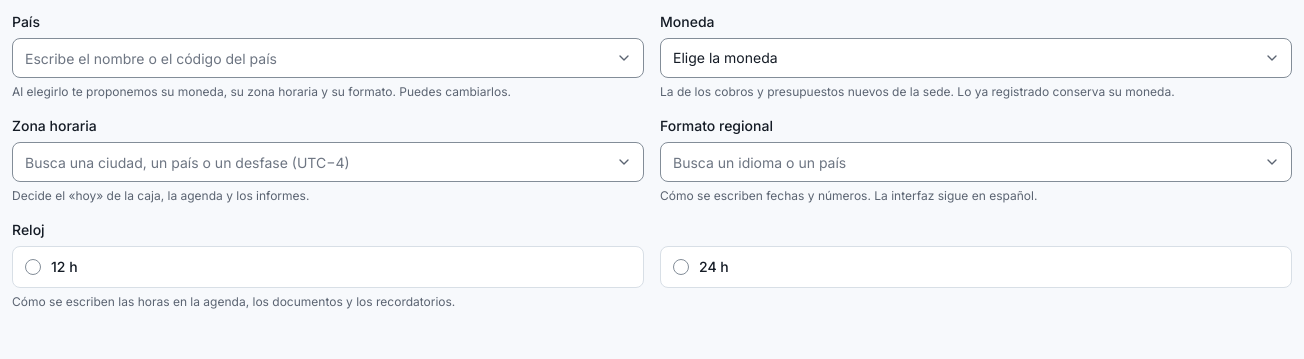
it: RegionalSettingsFields › the country picker offers every country of the shared list by name
The width and height of the screenshot is (1304, 359).
Click the dropdown labelled "País" at (328, 58), box [12, 38, 644, 78]
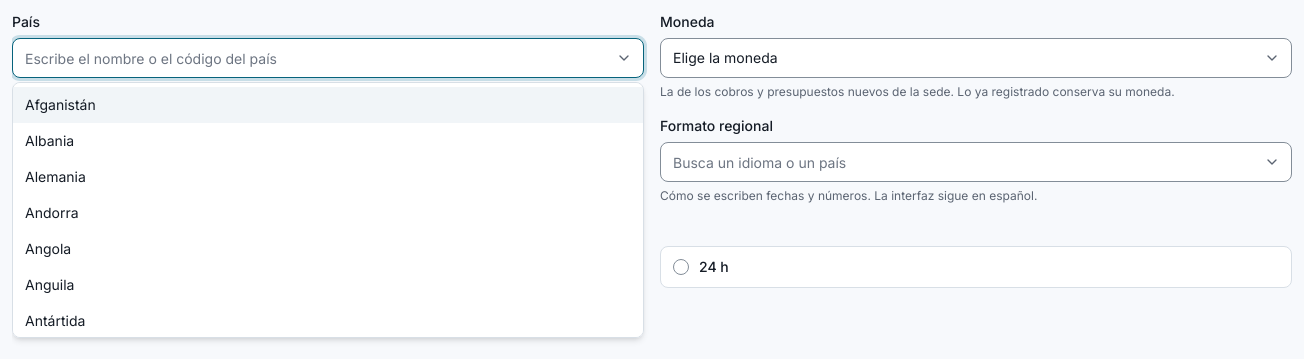
Type "VE" into the dropdown labelled "País" at (328, 58), box [12, 38, 644, 78]
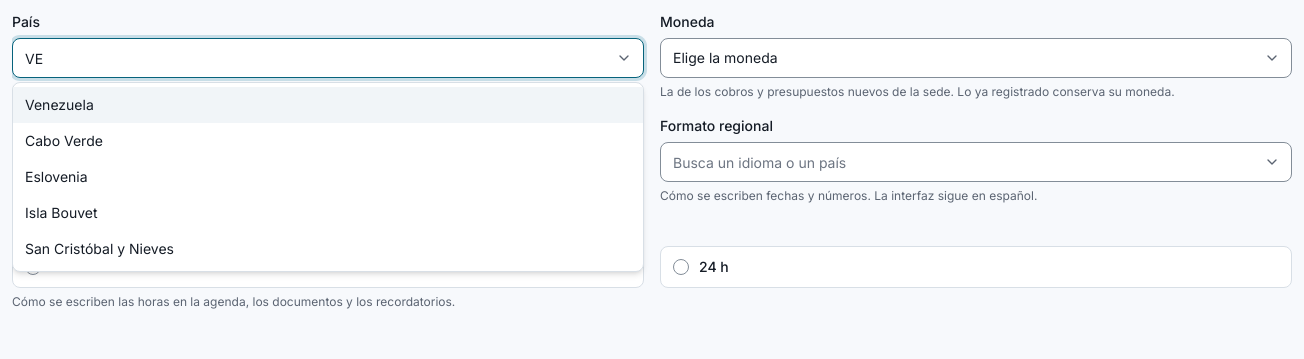
Click the option "Venezuela" at (59, 104), box [13, 87, 643, 123]
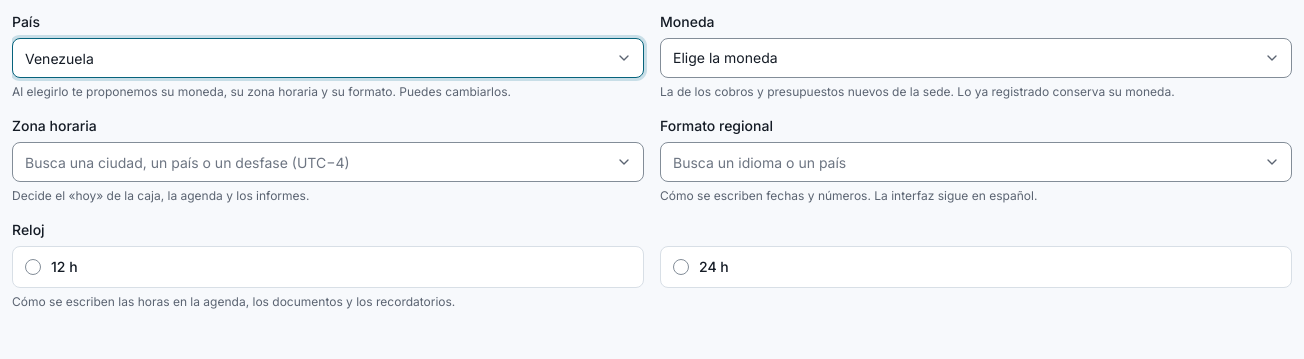
Check: the dropdown labelled "País" holds "Venezuela", box [12, 38, 644, 78]
